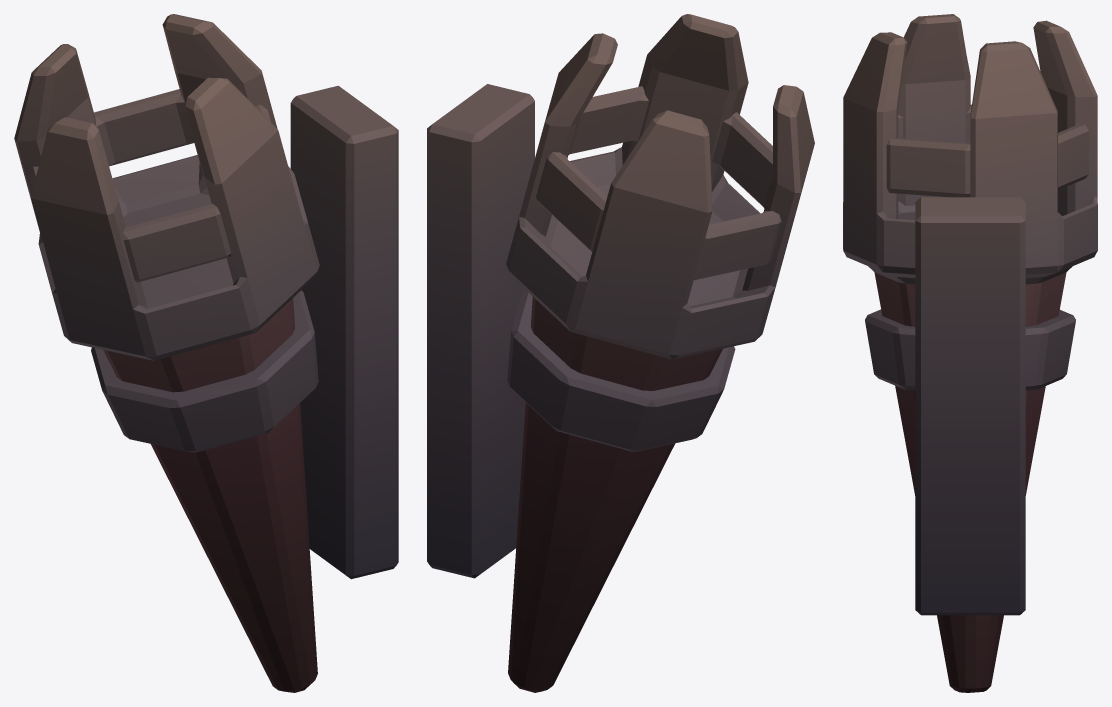
File: SM_Scone.fbx
The picture shows the model from 3 angles, left to right: view 1: azimuth 30°, elevation 25°; view 2: azimuth 150°, elevation 25°; view 3: azimuth 270°, elevation 25°; orthographic projection. The views are drawn at different scales.
Parts seen in each view (by area): view 1: wall torch; view 2: wall torch; view 3: wall torch.
Part boxes in pixels (x1,y1,x2,y2): wall torch: (14, 14, 398, 692); wall torch: (427, 14, 814, 692); wall torch: (843, 14, 1097, 692).
Bounding box in the file's own units: 32.41 × 61.3 × 23.12.
